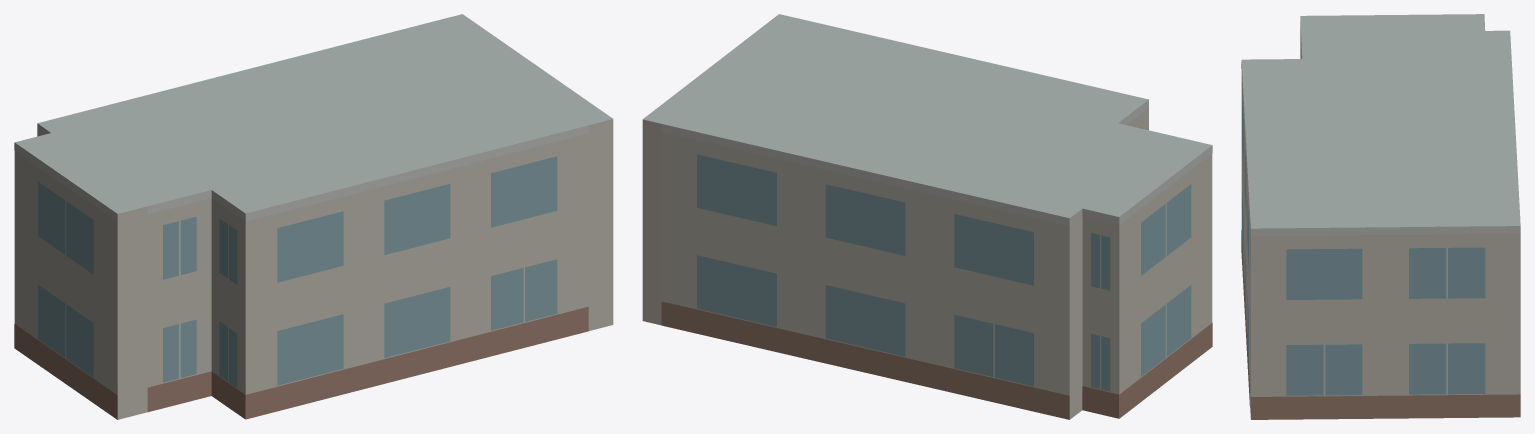
The model's file is survey-upis-32804167.glb.
The picture shows the model from 3 angles, left to right: view 1: azimuth 30°, elevation 25°; view 2: azimuth 150°, elevation 25°; view 3: azimuth 270°, elevation 25°; orthographic projection. The views are drawn at different scales.
Visible parts, largest first — view 1: survey-upis-32804167.tmp; view 2: survey-upis-32804167.tmp; view 3: survey-upis-32804167.tmp.
Boxes of the visible parts, x1,y1,x2,y2 form: survey-upis-32804167.tmp: [14, 14, 613, 419]; survey-upis-32804167.tmp: [642, 14, 1212, 419]; survey-upis-32804167.tmp: [1241, 14, 1520, 419].
Size of the model in its own units: 14.68 by 6.1 by 8.07.
